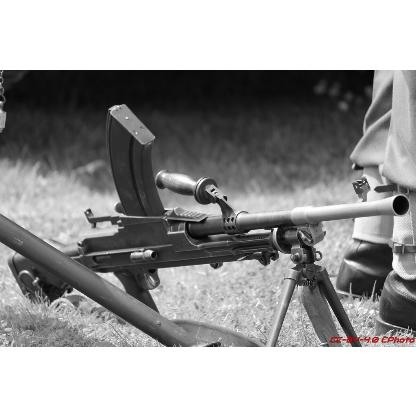gun: (17, 106, 409, 345)
